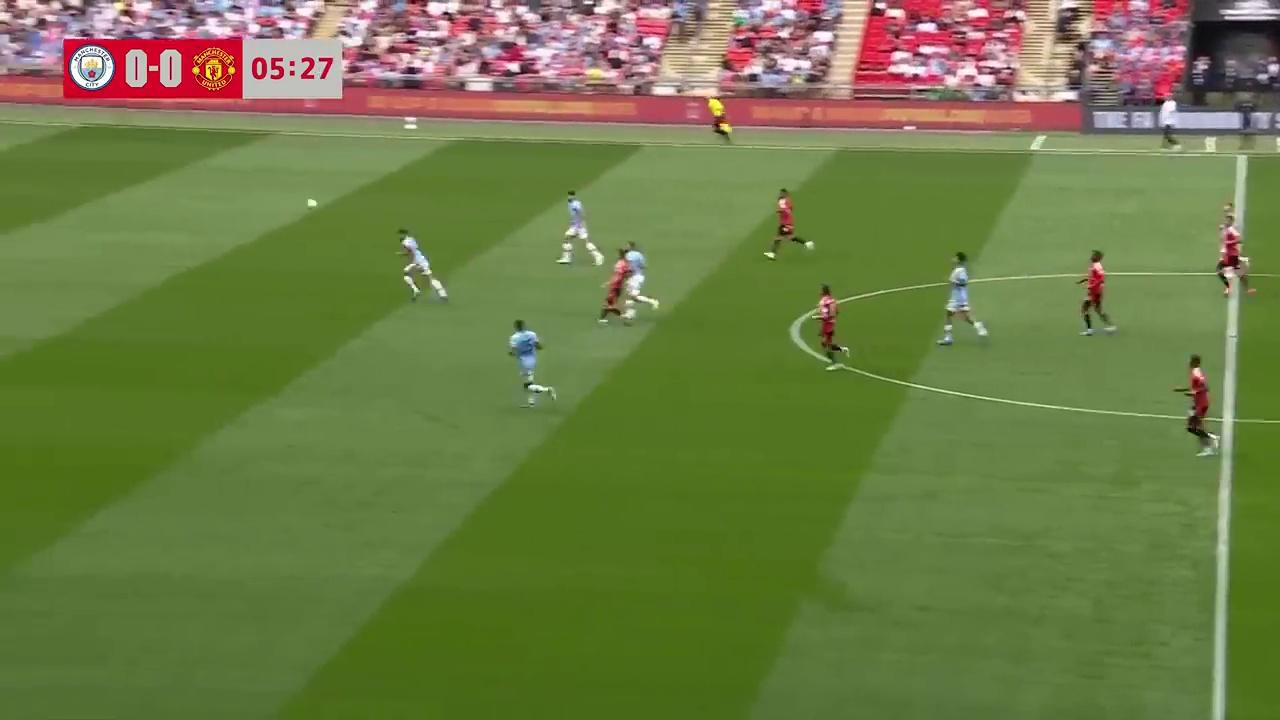ball: (304, 194, 320, 213)
player: (936, 252, 987, 347), (1173, 353, 1220, 456), (507, 320, 556, 407), (397, 230, 448, 303), (616, 240, 659, 321), (763, 188, 812, 259), (1076, 250, 1116, 336), (559, 190, 602, 264), (814, 283, 849, 368), (1217, 219, 1255, 297), (597, 250, 634, 326), (1222, 200, 1248, 263)
referee: (707, 93, 732, 145)
